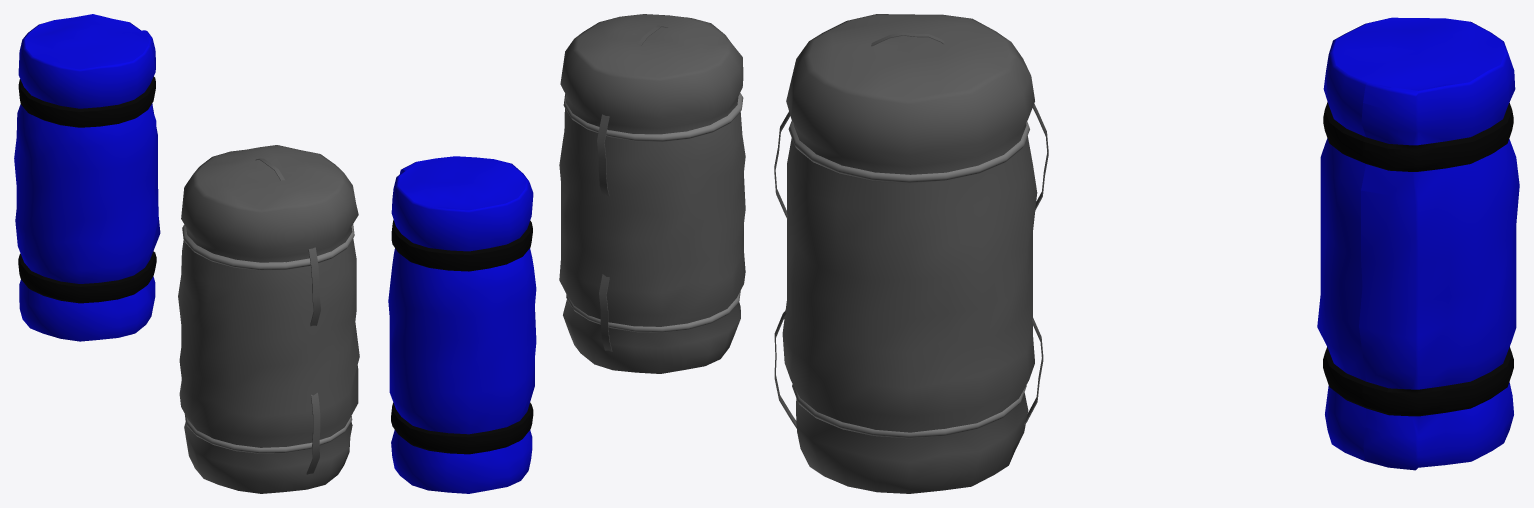
Rendered from SBTent.fbx.
3 renders of one model, left to right at view 1: azimuth 30°, elevation 25°; view 2: azimuth 150°, elevation 25°; view 3: azimuth 270°, elevation 25°, orthographic. The views are drawn at different scales.
Parts seen in each view (by area): view 1: pCylinder2, Sleeping_Bag, pTorus2, pTorus1, polySurface2, polySurface1; view 2: pCylinder2, Sleeping_Bag, pTorus2, pTorus1, polySurface4, polySurface3; view 3: pCylinder2, Sleeping_Bag, pTorus2, pTorus1.
Boxes of the visible parts, x1,y1,x2,y2 form: pCylinder2: [178, 145, 359, 493]; Sleeping_Bag: [14, 14, 160, 341]; pTorus2: [182, 224, 354, 270]; pTorus1: [184, 414, 352, 453]; polySurface2: [306, 392, 320, 474]; polySurface1: [308, 247, 320, 326]; pCylinder2: [559, 14, 745, 373]; Sleeping_Bag: [388, 156, 536, 493]; pTorus2: [563, 93, 743, 141]; pTorus1: [566, 291, 740, 332]; polySurface4: [597, 114, 609, 196]; polySurface3: [599, 274, 612, 351]; pCylinder2: [782, 14, 1037, 493]; Sleeping_Bag: [1317, 17, 1519, 470]; pTorus2: [788, 120, 1029, 182]; pTorus1: [792, 384, 1026, 438].
Size of the model in its own units: 2.84 by 5.22 by 8.38.
